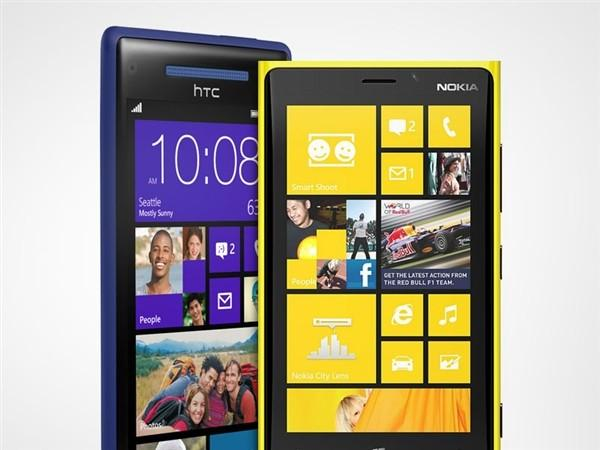phone: (258, 59, 502, 450), (97, 24, 263, 449)
